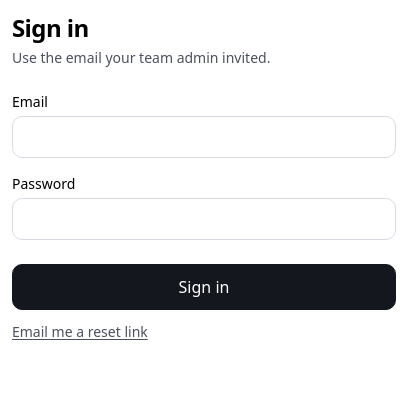
Test: password reset › too many requests: says it could not send, and logs the code only, never the address
Type "reader@example.com" into the field labelled "Email".
click(204, 137); type("reader@example.com")  # box [12, 116, 396, 158]
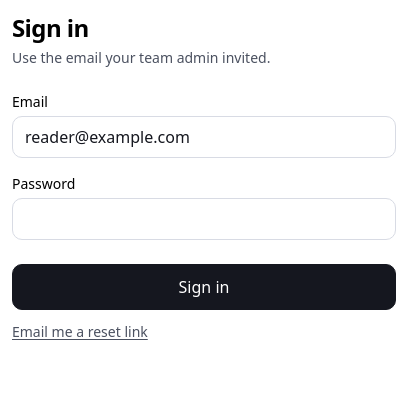
Click the button "Email me a reset link".
click(80, 332)  # box [12, 322, 148, 342]
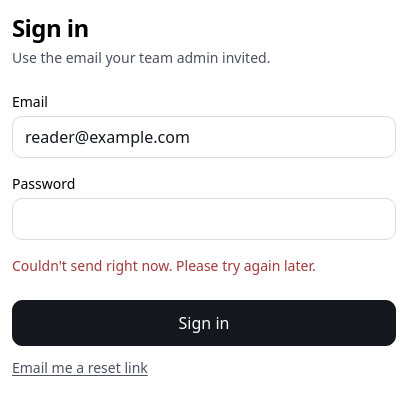
expect the message reads "Couldn't send right now. Please try again later.": met, box [12, 256, 316, 275]
